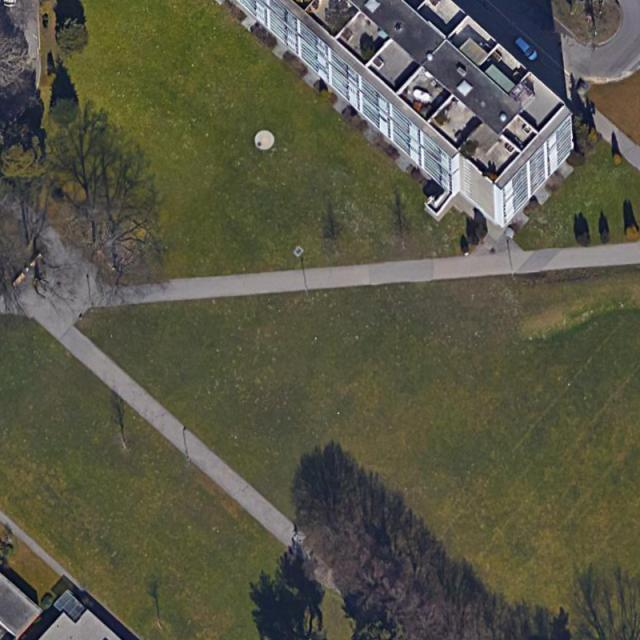vehicle: (514, 37, 538, 62), (1, 1, 19, 8)
